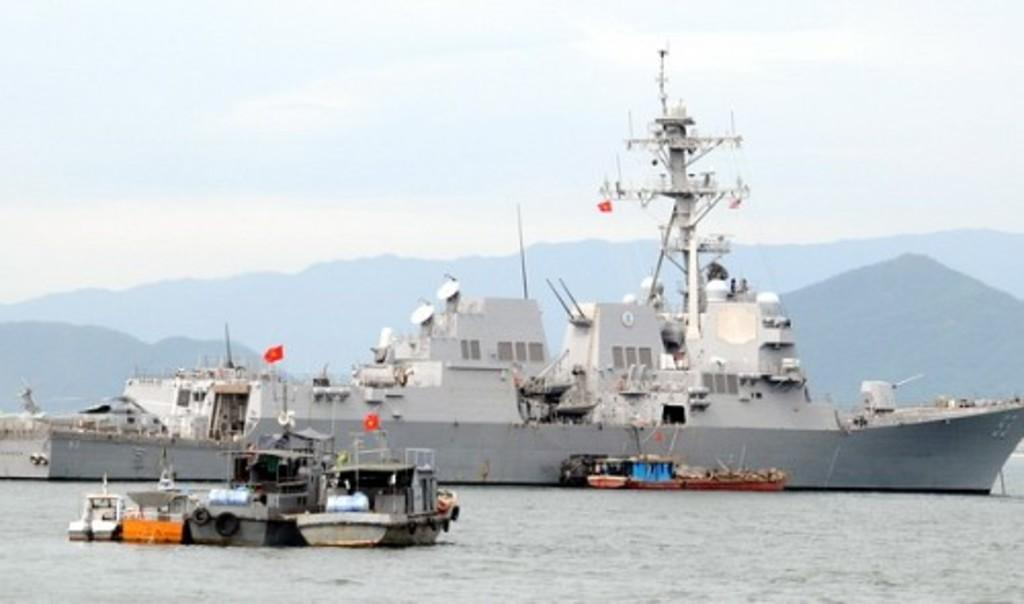Warship: (0, 98, 1024, 492)
